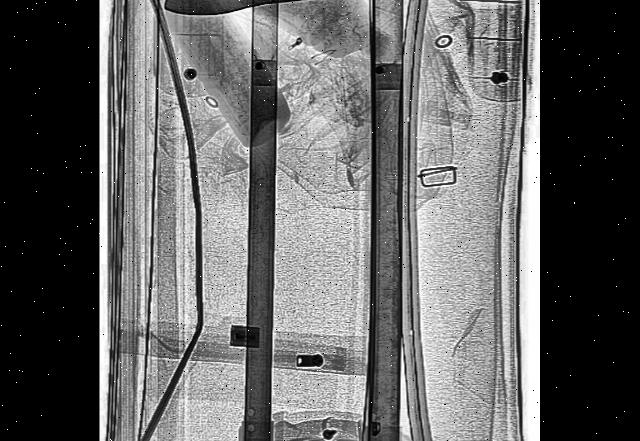Knife: (164, 0, 449, 21)
